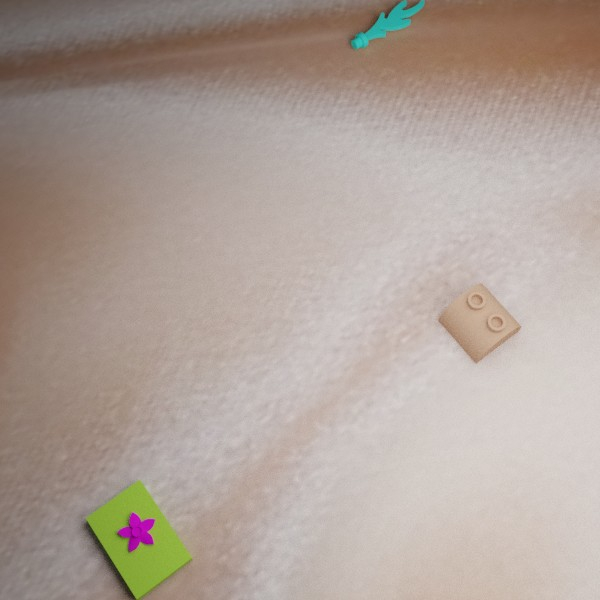lego: (85, 479, 193, 600), (438, 283, 521, 363), (350, 0, 424, 49), (117, 511, 155, 552)
